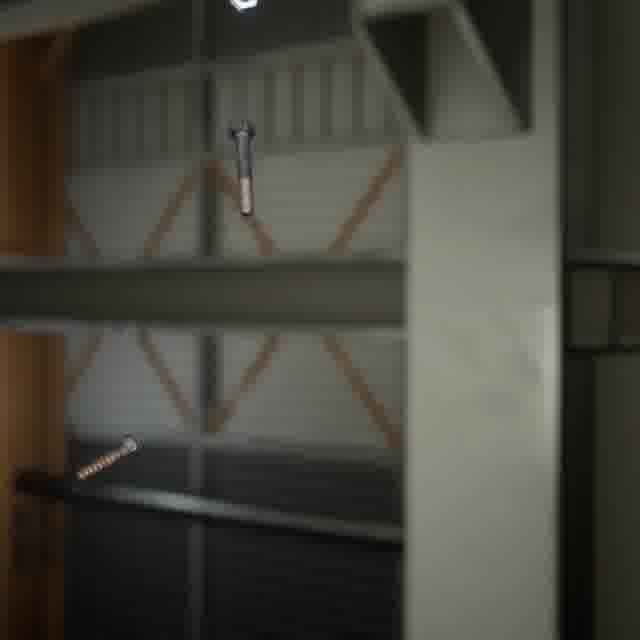bolt: (72, 428, 146, 485), (224, 116, 259, 221)
